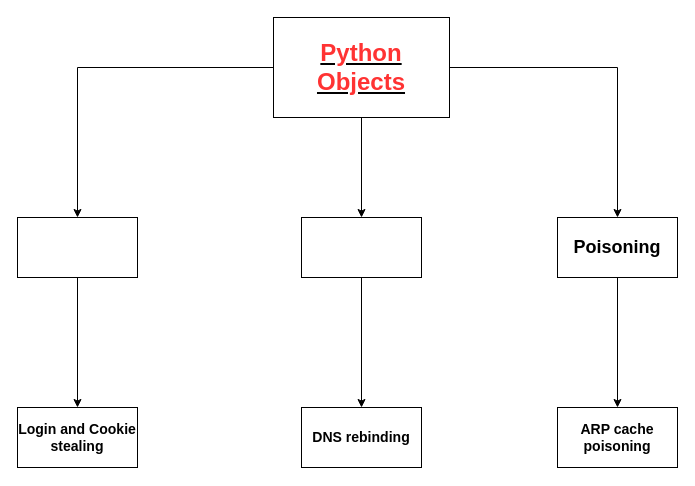
Some shapes in this 695 by 486 pixel diagram are drawn without their labels. Each missing label, with the centre of its shape:
"Effect" goes at pixel 361 247.
"Impact" goes at pixel 77 247.
